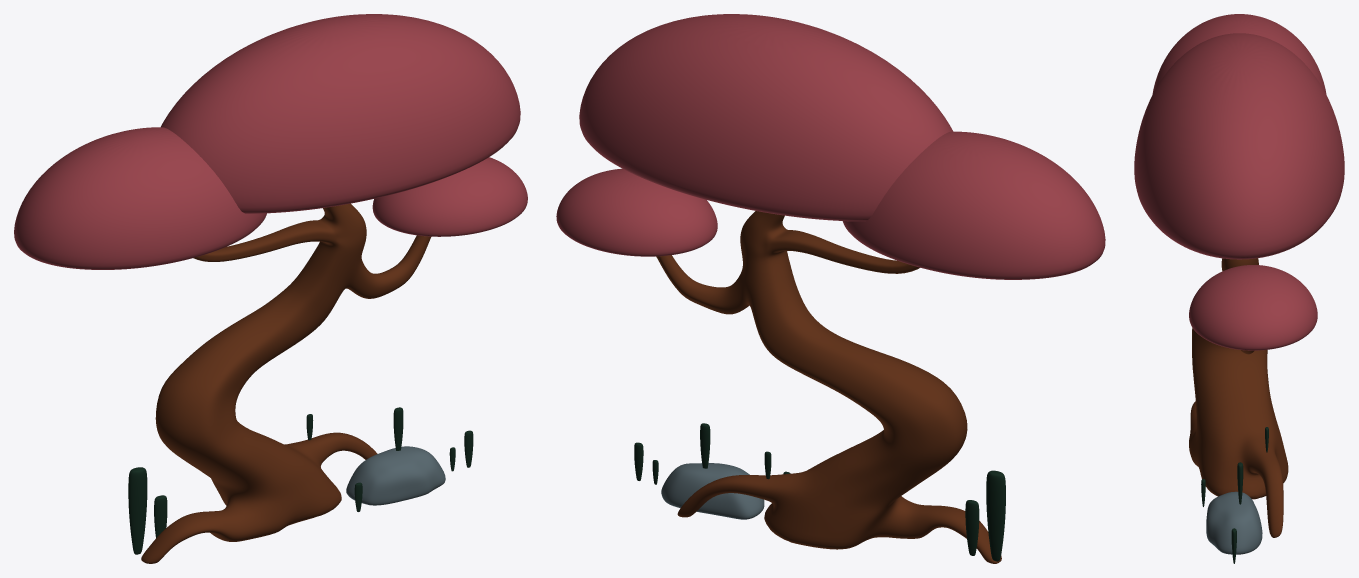
File: sakura_treee_v001_export_01.fbx
3 renders of one model, left to right at view 1: azimuth 30°, elevation 25°; view 2: azimuth 150°, elevation 25°; view 3: azimuth 270°, elevation 25°, orthographic. The views are drawn at different scales.
Parts seen in each view (by area): view 1: Leaf_Middle, Trunk, Leaf_R, Leaf_L, Rock, Grass; view 2: Leaf_Middle, Trunk, Leaf_R, Leaf_L, Grass, Rock; view 3: Leaf_Middle, Trunk, Leaf_L, Leaf_R, Rock, Grass.
Part boxes in pixels (box(x1,y1,x2,y2)): Leaf_Middle: box(161, 14, 520, 213); Trunk: box(141, 203, 431, 563); Leaf_R: box(14, 127, 266, 269); Leaf_L: box(372, 157, 527, 236); Rock: box(346, 446, 445, 505); Grass: box(128, 407, 473, 554); Leaf_Middle: box(579, 14, 953, 221); Trunk: box(656, 211, 1001, 563); Leaf_R: box(842, 131, 1105, 279); Leaf_L: box(556, 168, 717, 256); Grass: box(634, 423, 1005, 561); Rock: box(661, 463, 764, 519); Leaf_Middle: box(1134, 33, 1344, 259); Trunk: box(1189, 258, 1288, 537); Leaf_L: box(1189, 265, 1317, 350); Leaf_R: box(1152, 14, 1326, 94); Rock: box(1206, 491, 1262, 554); Grass: box(1201, 427, 1268, 563).
Size of the model in its own units: 14.27 by 12.88 by 5.47.
